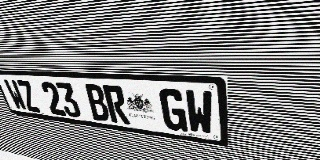2: (40, 81, 66, 116)
3: (55, 82, 82, 118)
B: (83, 84, 111, 122)
G: (158, 88, 188, 132)
R: (102, 85, 130, 124)
W: (184, 89, 214, 136), (3, 79, 28, 111)
Z: (15, 80, 41, 113)
